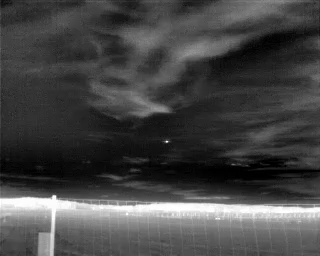AIRPLANE: (163, 138, 170, 144)
